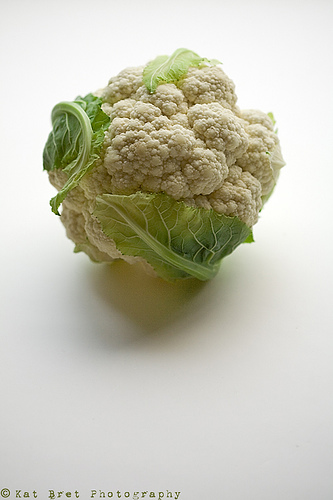cauliflower: (42, 47, 282, 281)
